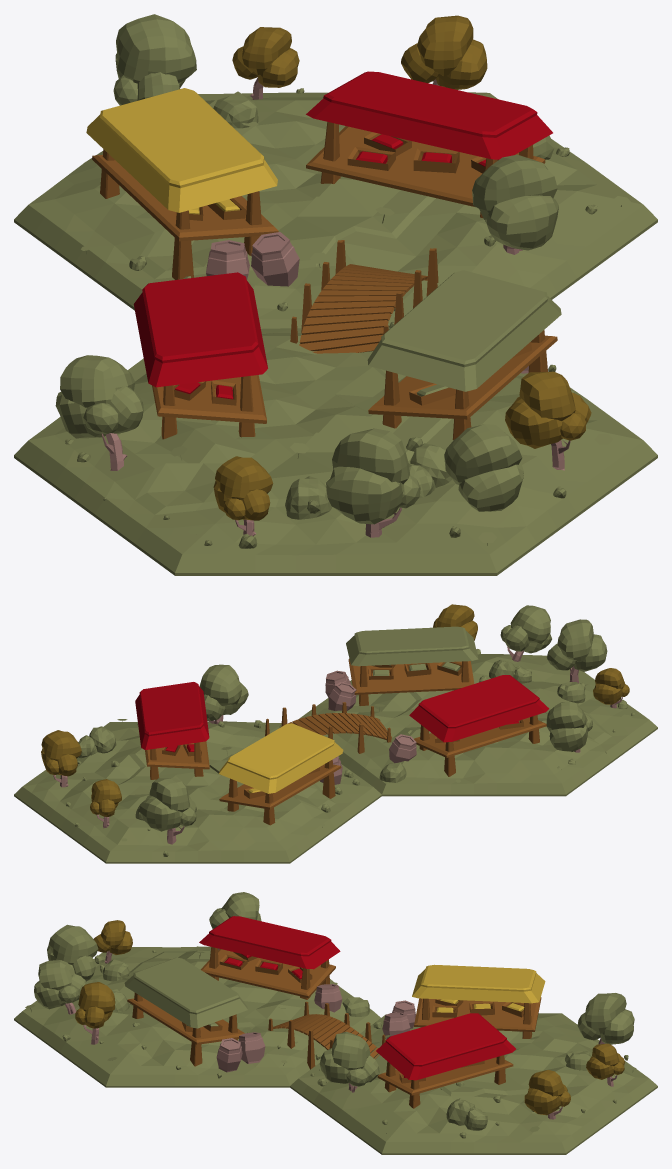
Rendered from market.glb.
The picture shows the model from 3 angles, top to bottom: view 1: azimuth 30°, elevation 25°; view 2: azimuth 150°, elevation 25°; view 3: azimuth 270°, elevation 25°; orthographic projection. The views are drawn at different scales.
Parts seen in each view (by area): view 1: land, building, big_details, small_details; view 2: land, building, big_details, small_details; view 3: land, building, big_details, small_details.
Part boxes in pixels (<box>): land: <box>14,92,657,575</box>; building: <box>86,71,561,439</box>; big_details: <box>55,14,591,537</box>; small_details: <box>65,88,631,548</box>; land: <box>14,654,657,863</box>; building: <box>135,626,549,825</box>; big_details: <box>41,604,629,844</box>; small_details: <box>47,649,634,856</box>; land: <box>14,946,657,1154</box>; building: <box>124,916,545,1108</box>; big_details: <box>34,892,634,1130</box>; small_details: <box>25,946,636,1138</box>.
Size of the model in its own units: 2.6 by 0.4721 by 3.5.
